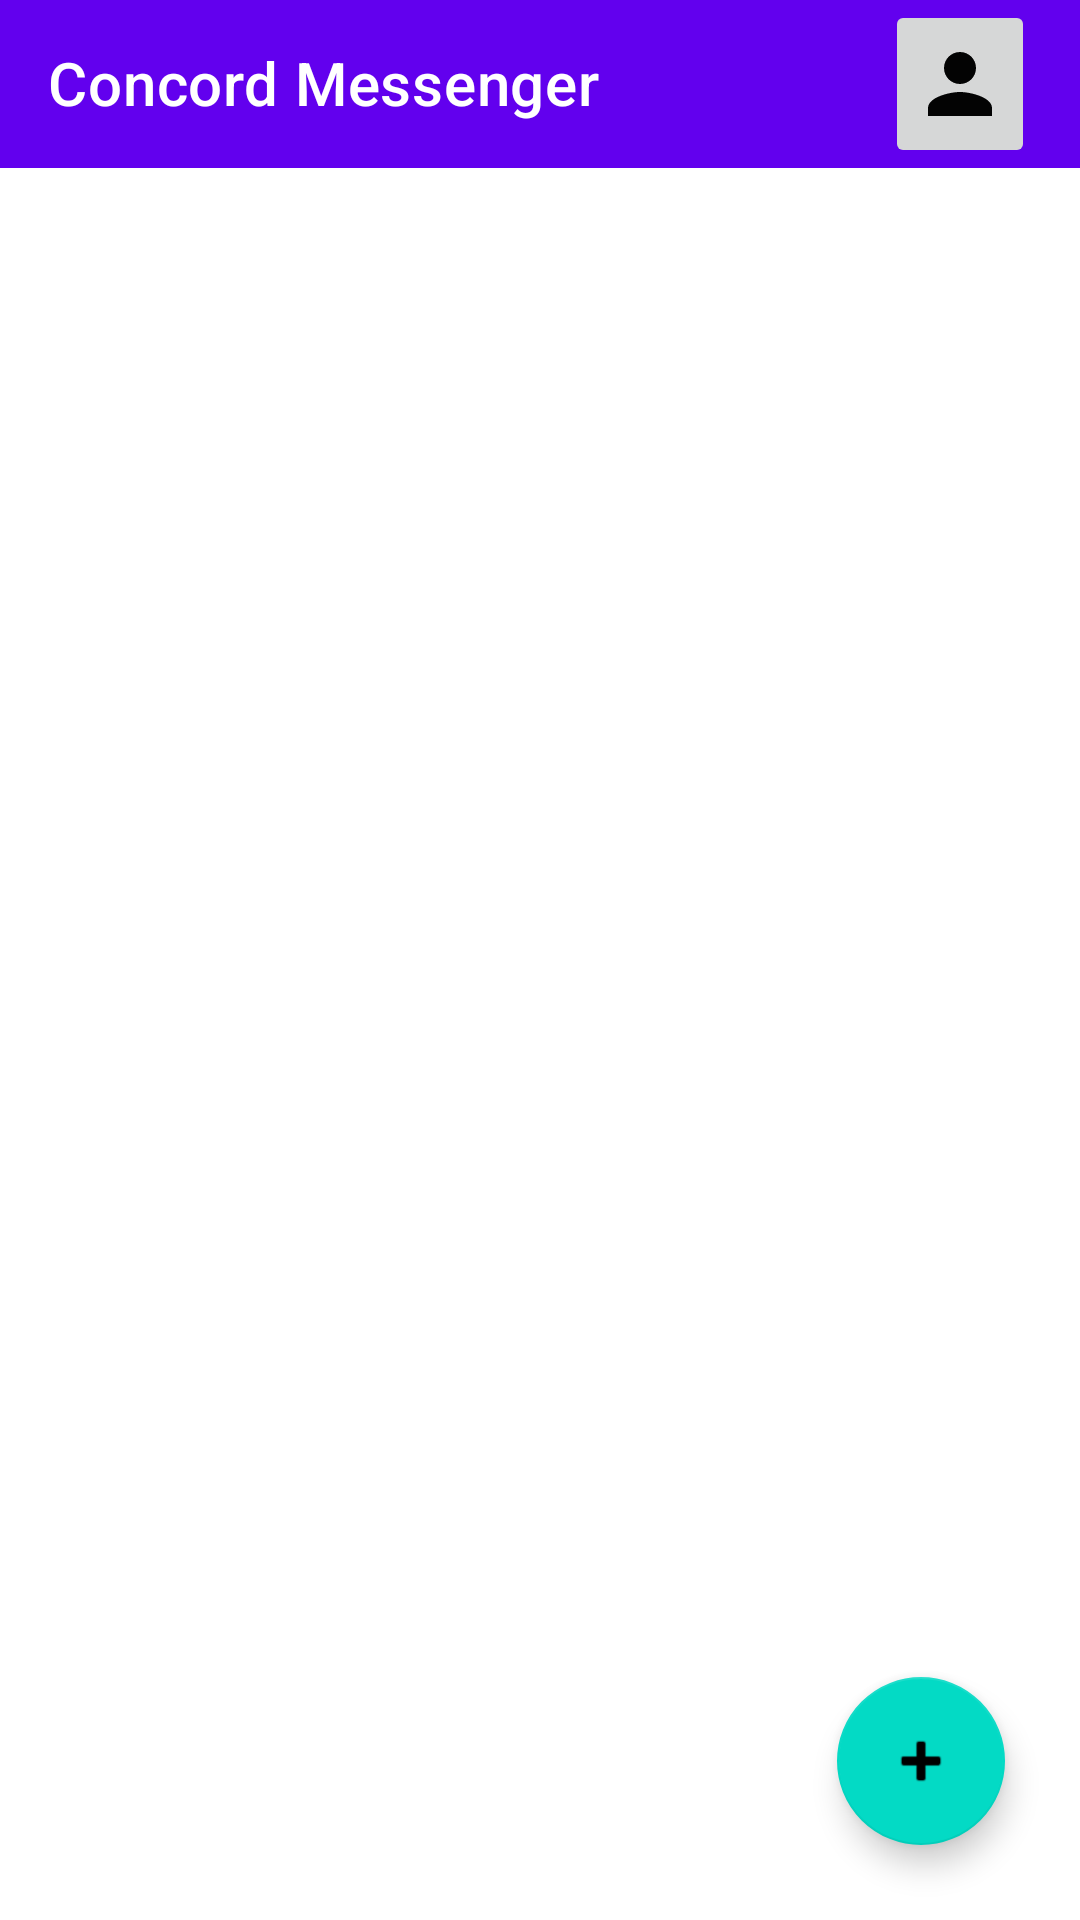

Locate icon controls on the screen. Image size 1080x1920, boxes as (x1, y1, x2, y2).
add: (837, 1677, 1005, 1845)
person: (897, 18, 1023, 150)
